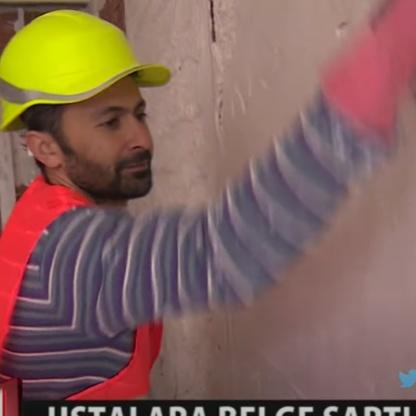helmet: (0, 5, 178, 210)
